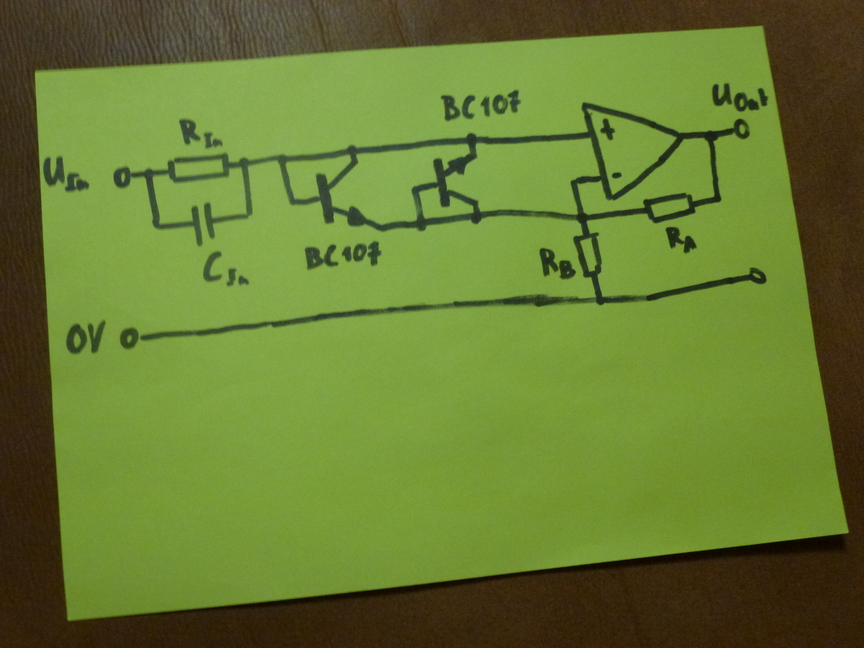capacitor.unpolarized: (189, 201, 220, 248)
junction: (345, 144, 361, 158), (465, 131, 479, 147), (703, 129, 719, 143), (149, 218, 164, 232), (575, 211, 590, 225), (237, 156, 251, 170), (142, 167, 156, 181), (414, 217, 427, 232), (471, 210, 483, 226), (276, 152, 289, 166), (593, 295, 606, 308), (410, 185, 422, 197), (286, 196, 298, 207), (711, 194, 723, 205), (568, 177, 581, 187), (243, 210, 254, 220)
operational_amplifier: (581, 101, 684, 200)
resistor: (166, 152, 231, 184), (642, 192, 697, 225), (572, 231, 604, 280)
terminal: (118, 325, 143, 351), (112, 165, 133, 189), (732, 118, 751, 141), (748, 266, 768, 286)
text: (439, 89, 522, 122), (303, 240, 382, 271), (710, 81, 769, 113), (42, 155, 90, 193), (202, 250, 250, 288), (64, 319, 107, 356), (178, 118, 224, 150), (538, 246, 576, 280), (665, 225, 698, 255)
transistor: (314, 160, 384, 234), (432, 150, 482, 208)
